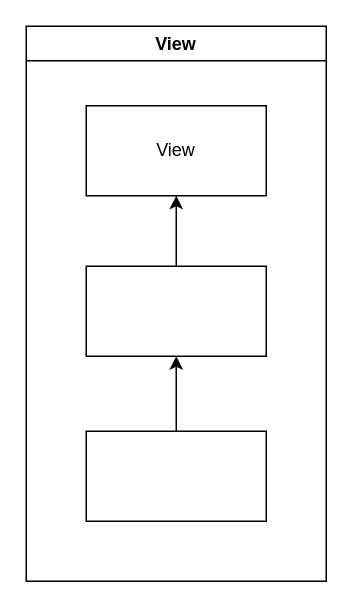
This 353x608 diagram has some shape labels left out. Each missing label, with the centre of its shape:
"PageView" belongs at (x=175, y=475).
"WebView" belongs at (x=175, y=310).
